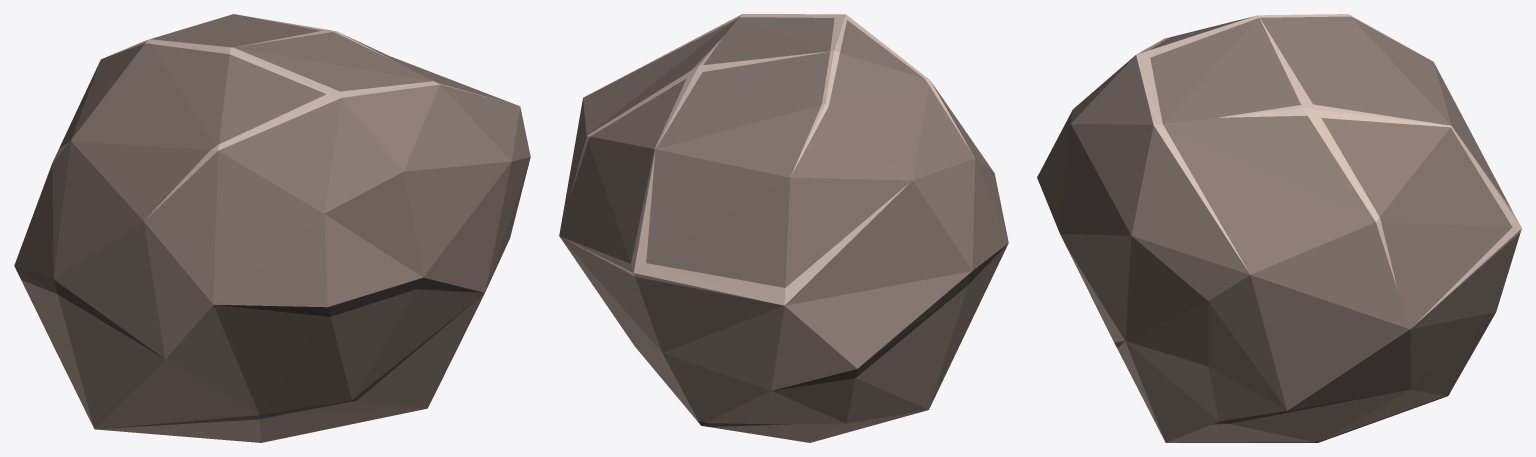
Rendered from Rock.FBX.
3 views of the same model, side by side, from view 1: azimuth 30°, elevation 25°; view 2: azimuth 150°, elevation 25°; view 3: azimuth 270°, elevation 25° (orthographic). The views are drawn at different scales.
Parts seen in each view (by area): view 1: Box003; view 2: Box003; view 3: Box003.
Boxes of the visible parts, x1,y1,x2,y2 form: Box003: (14,14,530,442); Box003: (559,14,1008,442); Box003: (1037,14,1521,442).
Size of the model in its own units: 51.3 by 41.94 by 48.6.
